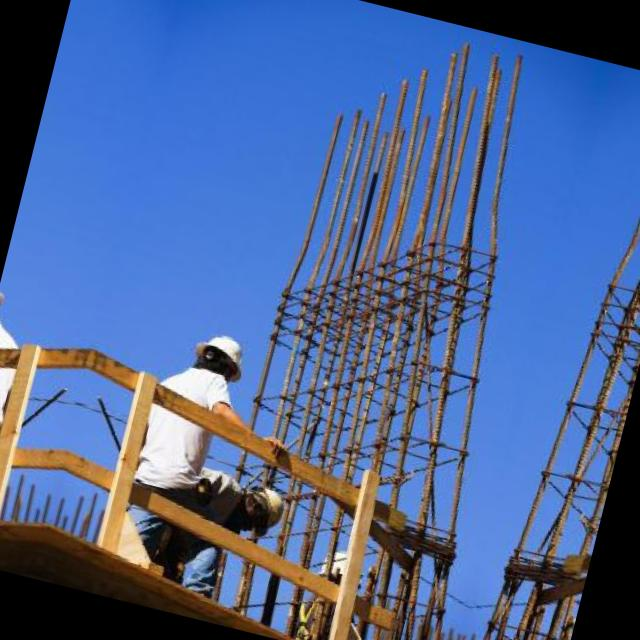helmet: (178, 322, 253, 391), (0, 274, 18, 333)
